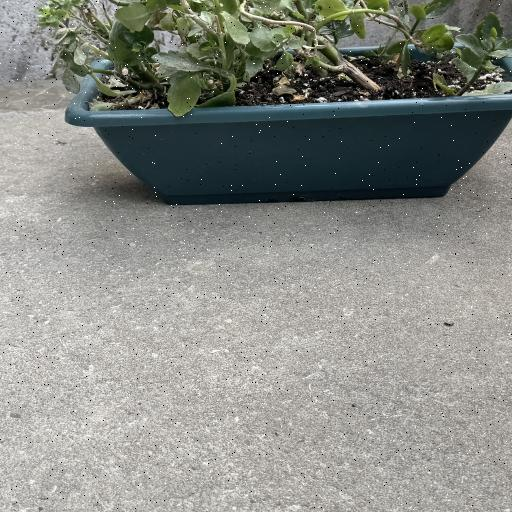Plant Pot: (65, 43, 512, 210)
